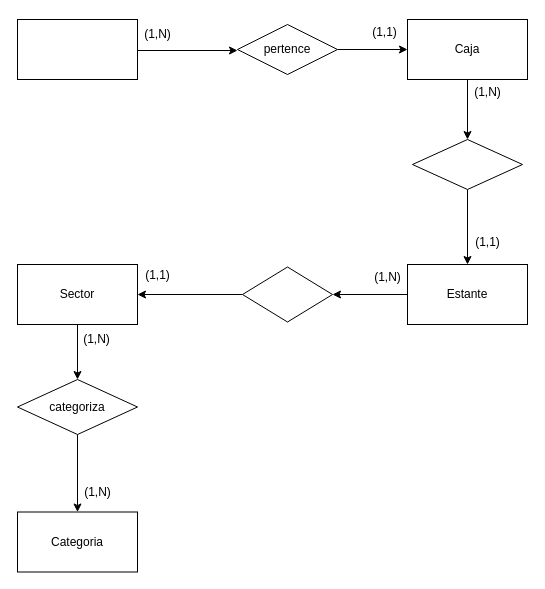
Image size: 545x589. Some labels were removed from this diagram. Here are the shapes that lost their labels. From the top down, the box of each, then its label:
(16, 18, 138, 80): Herramienta
(412, 138, 522, 190): asocia
(242, 266, 332, 322): almacena
